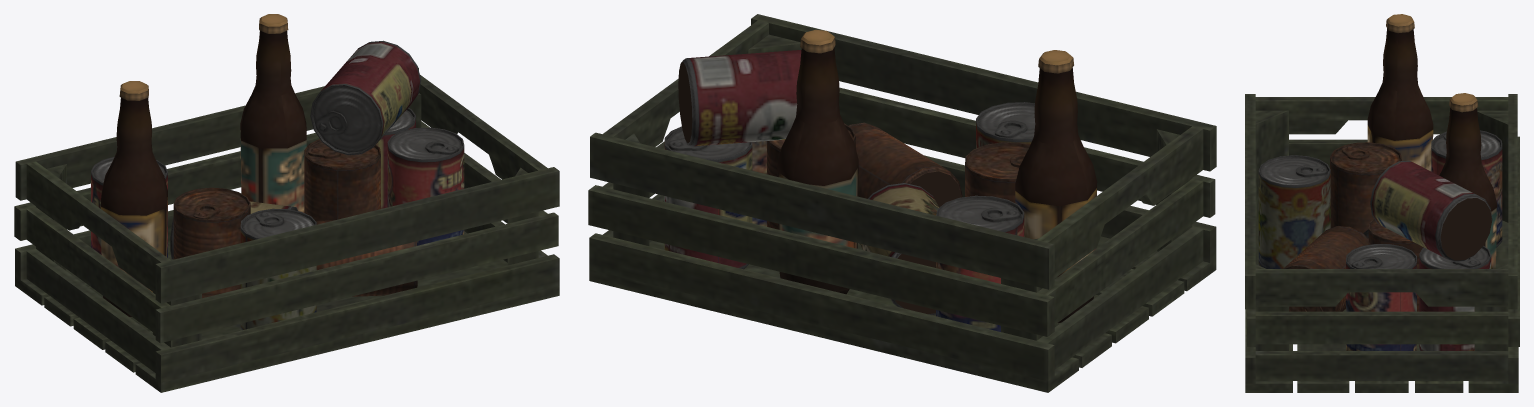
File: supply_crate_1_3.obj
3 renders of one model, left to right at view 1: azimuth 30°, elevation 25°; view 2: azimuth 150°, elevation 25°; view 3: azimuth 270°, elevation 25°, orthographic. The views are drawn at different scales.
Parts seen in each view (by area): view 1: supply_crate_1_3; view 2: supply_crate_1_3; view 3: supply_crate_1_3.
Boxes of the visible parts, box(x1,y1,x2,y2) form: supply_crate_1_3: box(14, 14, 559, 392); supply_crate_1_3: box(588, 14, 1216, 392); supply_crate_1_3: box(1245, 14, 1519, 392).
Bounding box in the file's own units: 0.668 × 0.3725 × 0.4262.
